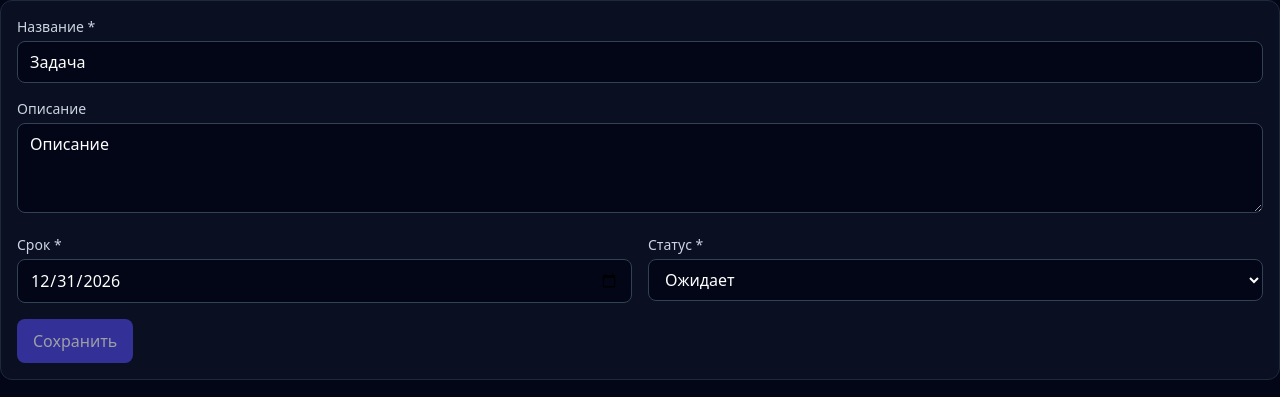
TaskForm › блокирует кнопку сохранения, пока данные не изменены
This screenshot has width=1280, height=397.
Check: the submit button is disabled, box [17,319,133,363]
Replace the text in the field with id "task-title" with "Задача изменена" at coordinates (640, 62), box [17,41,1263,83]
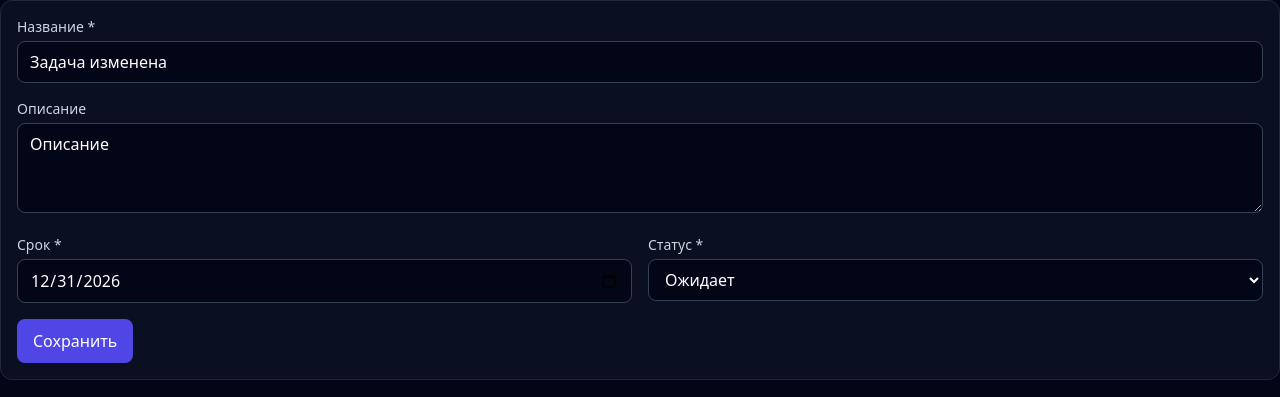
Check: the submit button is enabled, box [17,319,133,363]
